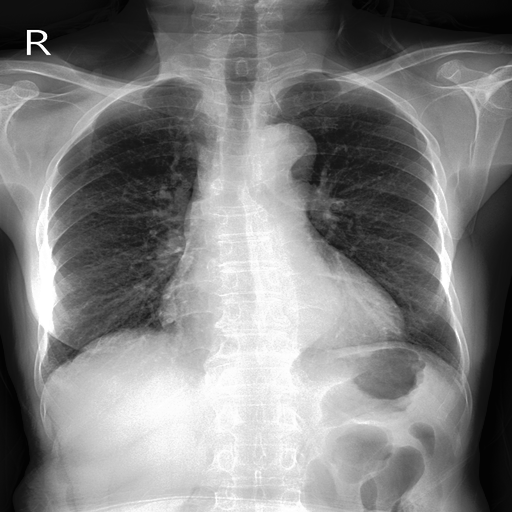Consolidation: (250, 121, 318, 185)
Nodule/Mass: (155, 293, 403, 367)
